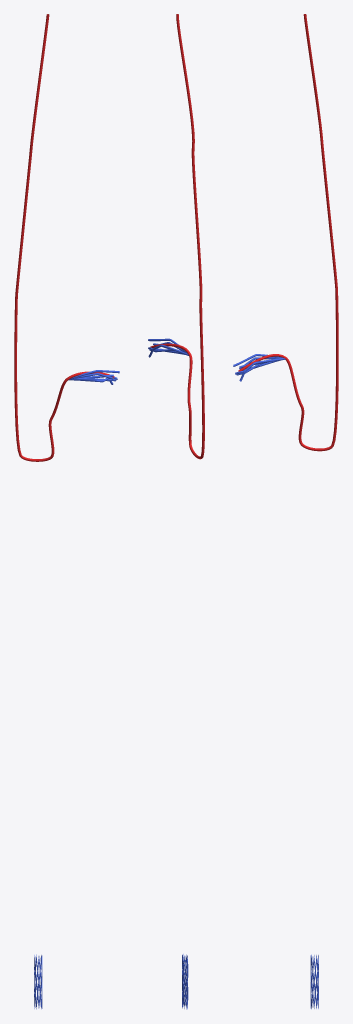
File: Pampiniform Plexus + Testicular Artery.glb
The picture shows the model from 3 angles, left to right: view 1: azimuth 90°, elevation 25°; view 2: azimuth 210°, elevation 25°; view 3: azimuth 270°, elevation 25°; orthographic projection.
Parts seen in each view (by area): view 1: Pampiniform Plexus, Testicular_Artery, BézierCurve.001; view 2: Pampiniform Plexus, BézierCurve.001, Testicular_Artery; view 3: Pampiniform Plexus, BézierCurve.001, Testicular_Artery.
Part boxes in pixels (bbox=[...]): Pampiniform Plexus: bbox=[14, 14, 114, 461]; Testicular_Artery: bbox=[34, 954, 42, 1009]; BézierCurve.001: bbox=[68, 370, 119, 384]; Pampiniform Plexus: bbox=[150, 14, 204, 459]; BézierCurve.001: bbox=[148, 338, 188, 357]; Testicular_Artery: bbox=[182, 954, 188, 1009]; Pampiniform Plexus: bbox=[238, 14, 338, 451]; BézierCurve.001: bbox=[233, 354, 285, 381]; Testicular_Artery: bbox=[310, 954, 318, 1009].
Bounding box in the file's own units: 0.2068 × 7.94 × 0.7636.
